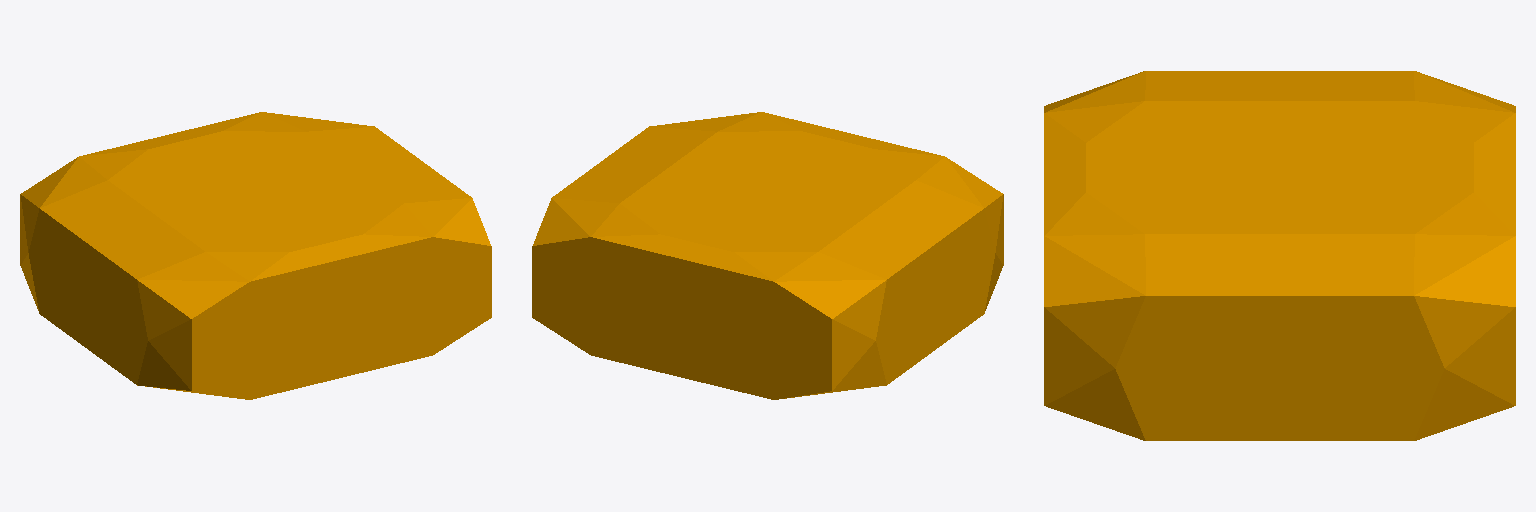
robot.urdf — 093_027_0304:
<?xml version="1.0"?>
<robot name="093_027_0304">
  <link name="link">
    <contact>
      <lateral_friction value="0.6"/>
    </contact>
    <inertial>
      <mass value = "0.22168790183278062"/>
      <inertia ixx="7.456464865752487e-05" ixy="-2.0406354908357914e-21" ixz="5.611747599798426e-21" iyy="8.90835260368968e-05" iyz="-2.550794363544739e-22" izz="0.00014257263333396136" />
    </inertial>
    <visual name="visual">
      <geometry>
        <mesh filename="093_027_0304.obj"/>
      </geometry>
    </visual>
    <collision name="collision">
      <geometry>
        <mesh filename="093_027_0304.obj"/>
      </geometry>
    </collision>
  </link>
</robot>

--- Render facts (derived) ---
The picture shows the robot from 3 angles, left to right: view 1: azimuth 30°, elevation 25°; view 2: azimuth 150°, elevation 25°; view 3: azimuth 270°, elevation 25°; orthographic projection.
Robot: 093_027_0304 — 1 links, 0 joints (none); root link link; default pose: all joints at 0.
Links seen in each view (by area): view 1: link; view 2: link; view 3: link.
Link boxes in pixels (<box>): link: <box>20,112,491,399</box>; link: <box>532,112,1003,399</box>; link: <box>1044,71,1515,440</box>.
Size in the robot's own frame: 0.0683 by 0.0604 by 0.025 metres.
1 mesh visuals loaded from 1 distinct referenced files (1 OBJ).
